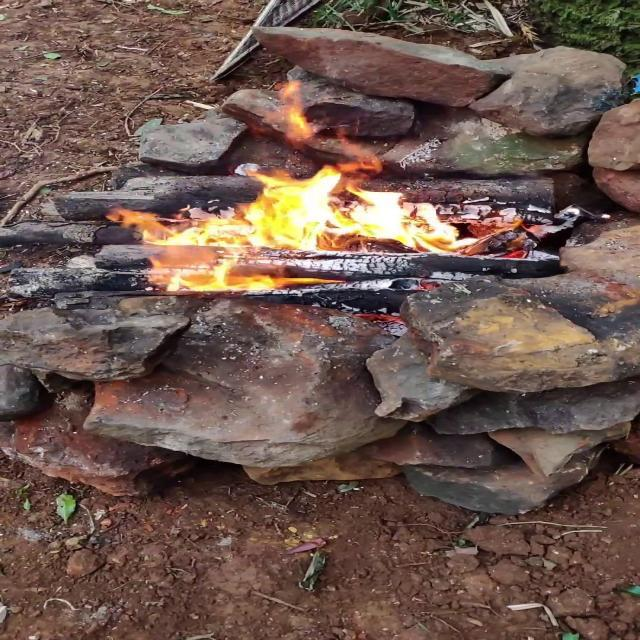Fire: (112, 153, 488, 297)
